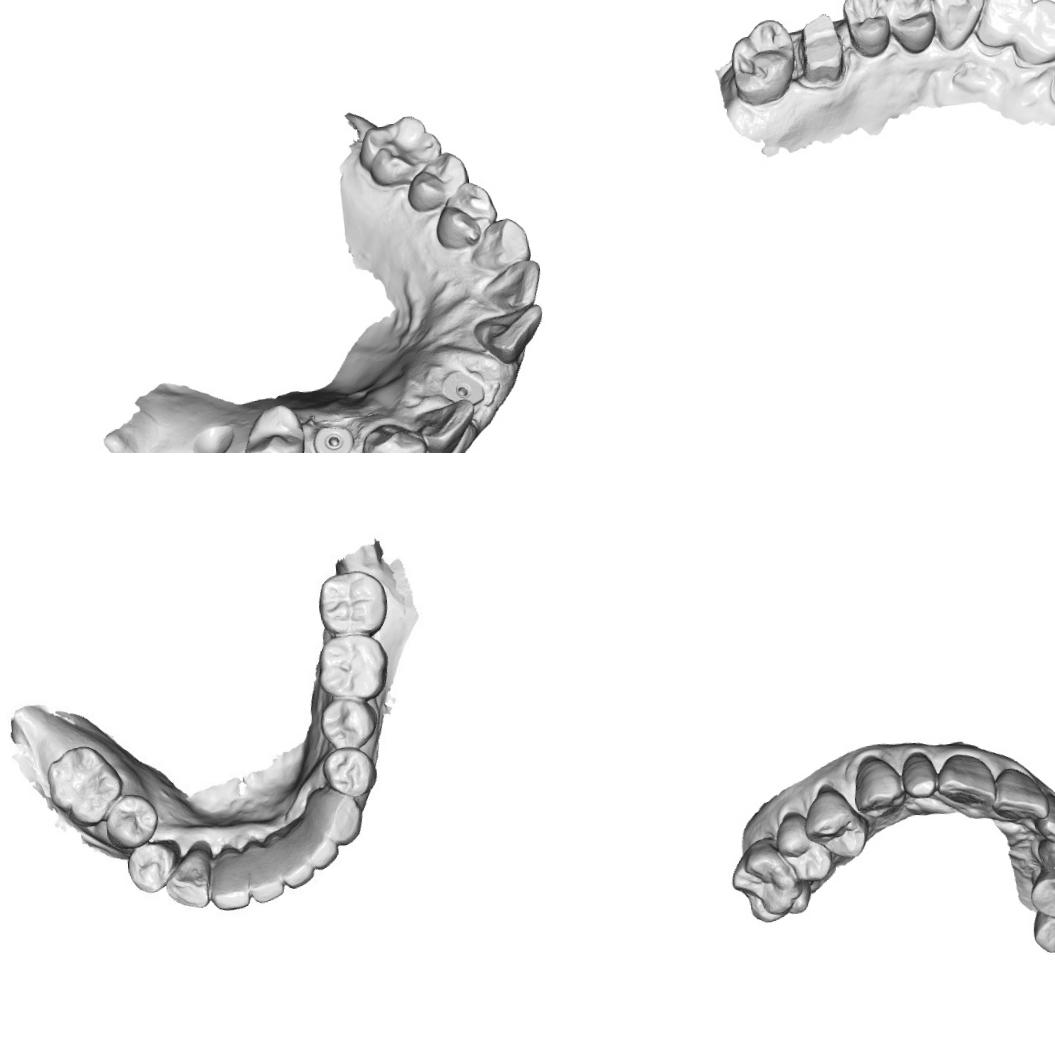canine: (847, 750, 908, 822), (307, 784, 367, 848), (470, 215, 532, 270), (930, 0, 988, 51), (357, 415, 430, 453), (170, 844, 213, 905), (1033, 824, 1055, 886)
crown: (791, 8, 850, 90)
implant: (442, 364, 493, 416), (307, 417, 357, 453)
incisor: (468, 301, 551, 366), (932, 748, 997, 814), (968, 0, 1037, 57), (986, 763, 1050, 824), (480, 254, 544, 312), (414, 397, 479, 453), (204, 844, 254, 914), (1007, 0, 1055, 70), (242, 836, 288, 908), (273, 833, 320, 892), (291, 822, 338, 872), (898, 746, 939, 802), (1029, 789, 1055, 845)
molar: (726, 832, 813, 926), (40, 738, 125, 828), (353, 111, 447, 189), (726, 15, 799, 108), (315, 566, 388, 638), (314, 632, 386, 700)
premolar: (798, 782, 870, 864), (431, 178, 502, 250), (402, 141, 470, 214), (772, 808, 834, 886), (238, 399, 313, 453), (315, 697, 378, 754), (100, 792, 160, 850), (839, 0, 892, 59), (884, 0, 939, 56), (318, 744, 376, 796), (124, 839, 178, 892), (1025, 864, 1055, 927), (1029, 905, 1055, 960)
